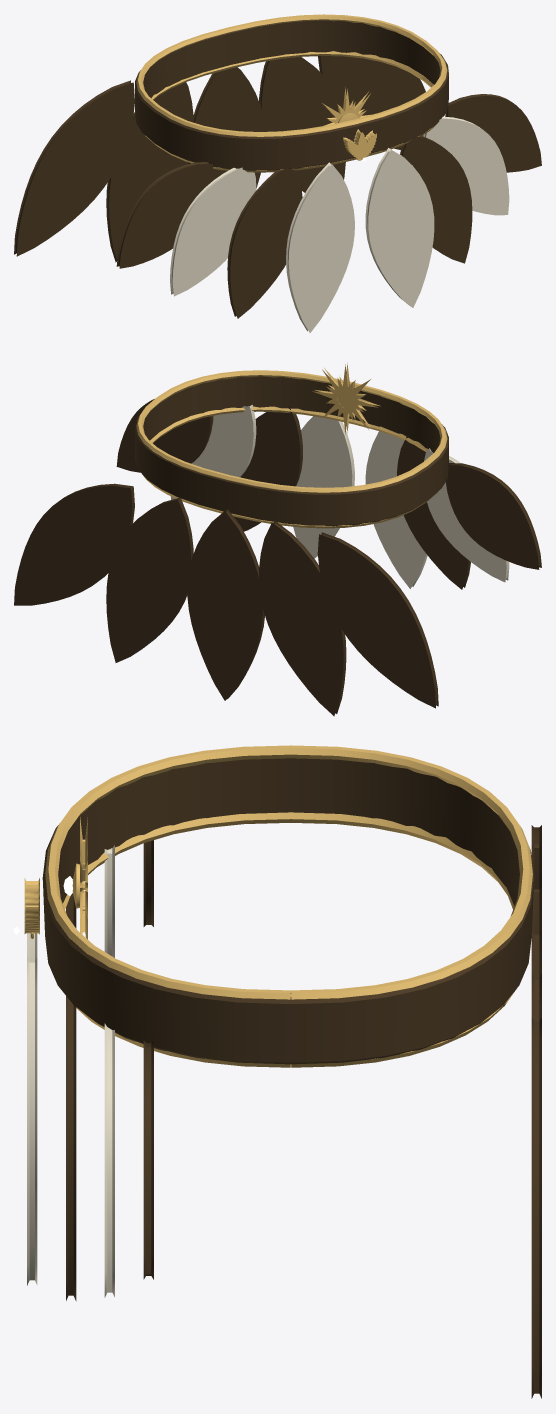
File: asc_zenith_archer_inner.glb
3 views of the same model, one above another, from view 1: azimuth 30°, elevation 25°; view 2: azimuth 150°, elevation 25°; view 3: azimuth 270°, elevation 25° (orthographic). The views are drawn at different scales.
Visible parts, largest first — view 1: asc_zenith_archer_inner, AT_thigh_R, AT_thigh_L; view 2: asc_zenith_archer_inner, AT_thigh_R, AT_thigh_L; view 3: asc_zenith_archer_inner, AT_thigh_L, AT_thigh_R.
Part boxes in pixels (<box>): asc_zenith_archer_inner: <box>14,14,448,262</box>; AT_thigh_R: <box>116,162,354,332</box>; AT_thigh_L: <box>365,94,541,307</box>; asc_zenith_archer_inner: <box>14,363,448,716</box>; AT_thigh_R: <box>365,431,541,589</box>; AT_thigh_L: <box>116,399,354,558</box>; asc_zenith_archer_inner: <box>14,745,541,1398</box>; AT_thigh_L: <box>27,957,153,1301</box>; AT_thigh_R: <box>27,840,153,961</box>.
Bounding box in the file's own units: 0.7108 × 0.4006 × 0.4081.
